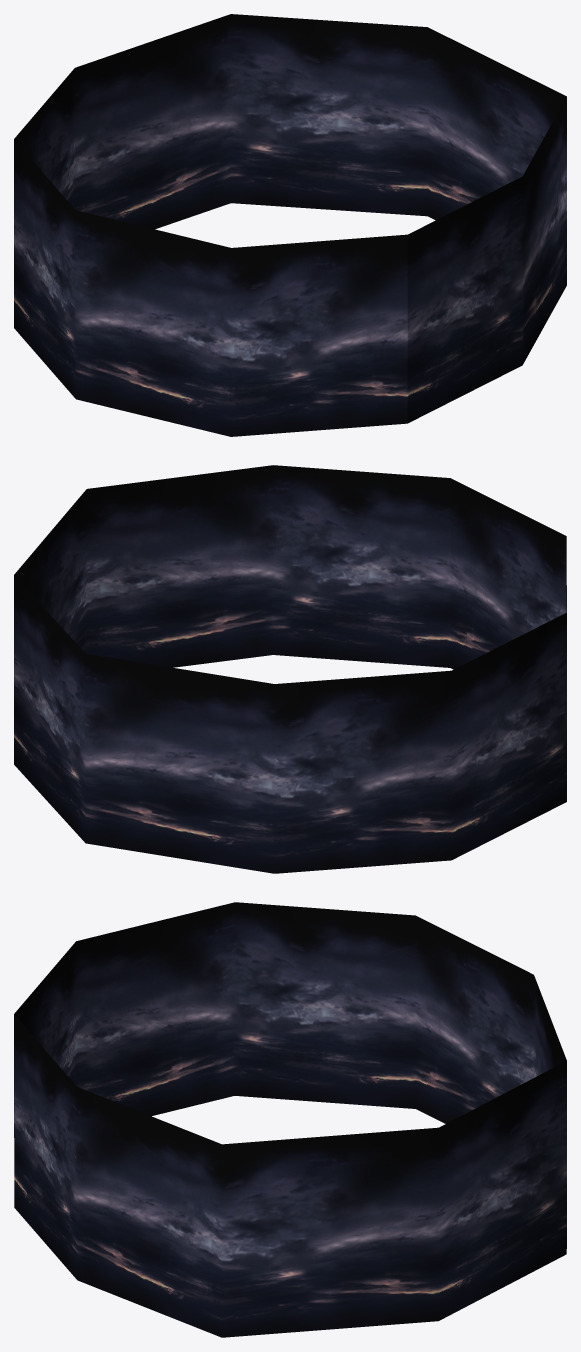
3 views of the same model, one above another, from view 1: azimuth 30°, elevation 25°; view 2: azimuth 150°, elevation 25°; view 3: azimuth 270°, elevation 25° (orthographic). The views are drawn at different scales.
Parts seen in each view (by area): view 1: wu01; view 2: wu01; view 3: wu01.
Part boxes in pixels (x1,y1,x2,y2): wu01: (14,14,566,436); wu01: (14,465,566,873); wu01: (14,902,566,1337).
Size of the model in its own units: 5187 by 1933 by 5006.
